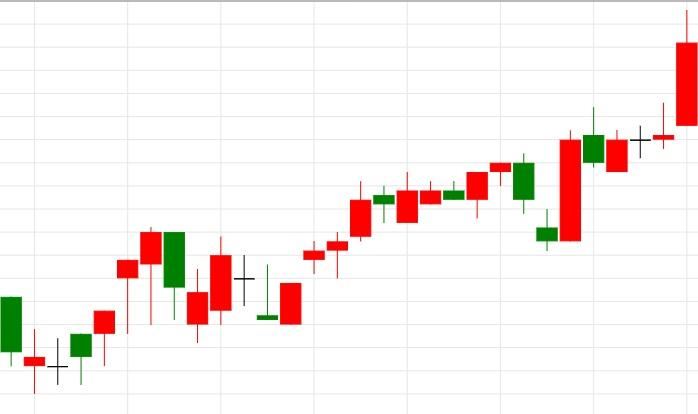bearish_engulfing_fall: (279, 153, 536, 326)
